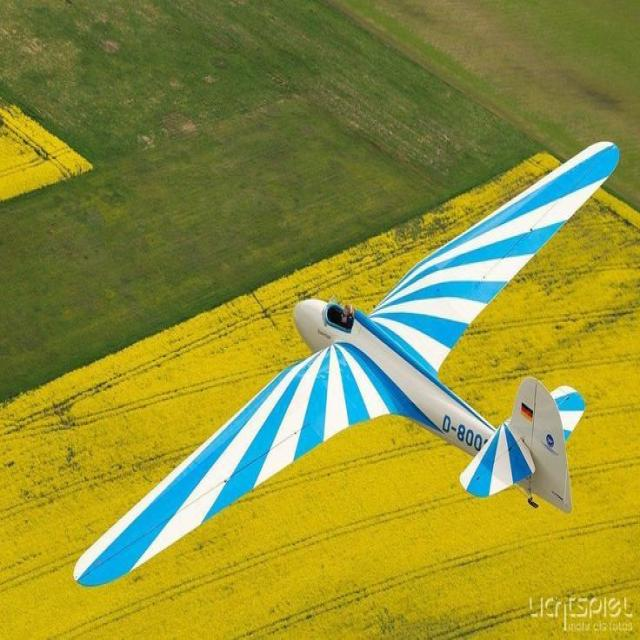iha: (71, 137, 621, 589)
